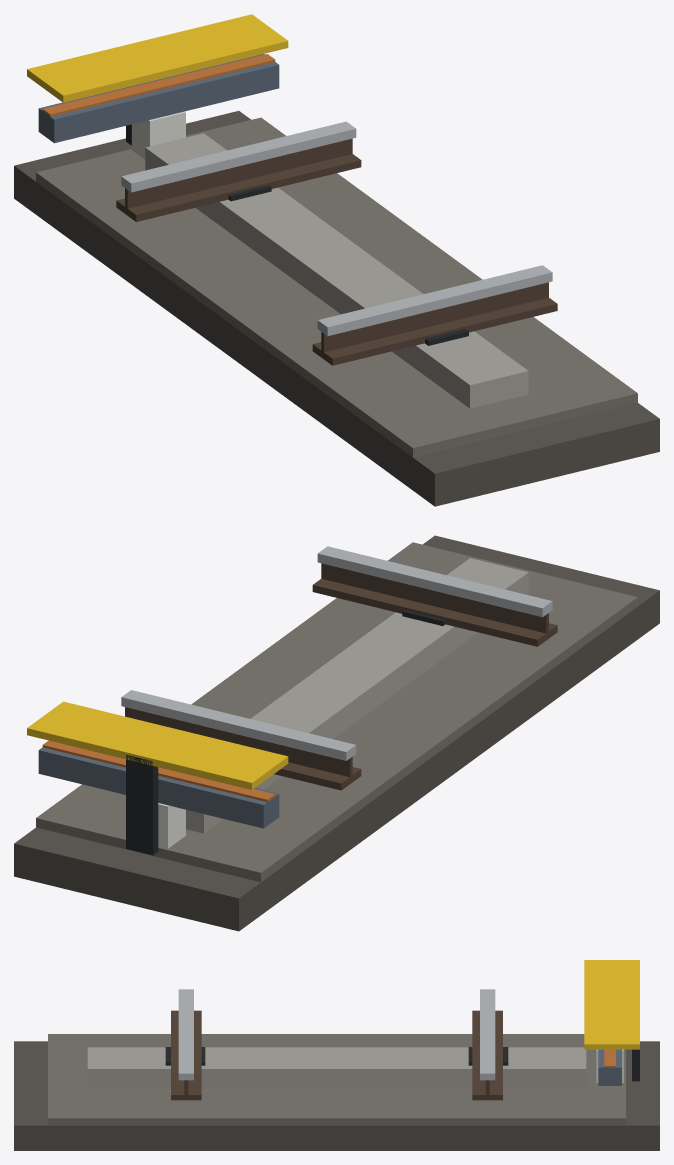
The model's file is pride_thirdrail.obj.
3 renders of one model, top to bottom at view 1: azimuth 30°, elevation 25°; view 2: azimuth 150°, elevation 25°; view 3: azimuth 270°, elevation 25°, orthographic. The views are drawn at different scales.
Parts seen in each view (by area): view 1: RAIL_BASE, RAIL_RIGHT, RAIL_LEFT; view 2: RAIL_BASE, RAIL_LEFT, RAIL_RIGHT; view 3: RAIL_BASE, RAIL_LEFT, RAIL_RIGHT.
Boxes of the visible parts, left/top/right/bottom form: RAIL_BASE: left=14, top=14, right=659, bottom=506; RAIL_RIGHT: left=116, top=121, right=361, bottom=221; RAIL_LEFT: left=312, top=265, right=557, bottom=365; RAIL_BASE: left=14, top=535, right=659, bottom=931; RAIL_LEFT: left=312, top=546, right=557, bottom=646; RAIL_RIGHT: left=121, top=690, right=361, bottom=790; RAIL_BASE: left=14, top=960, right=659, bottom=1150; RAIL_LEFT: left=171, top=989, right=201, bottom=1100; RAIL_RIGHT: left=472, top=989, right=502, bottom=1100.
Bounding box in the file's own units: 1 × 0.59 × 3.24.
1 material, 1 textured.
